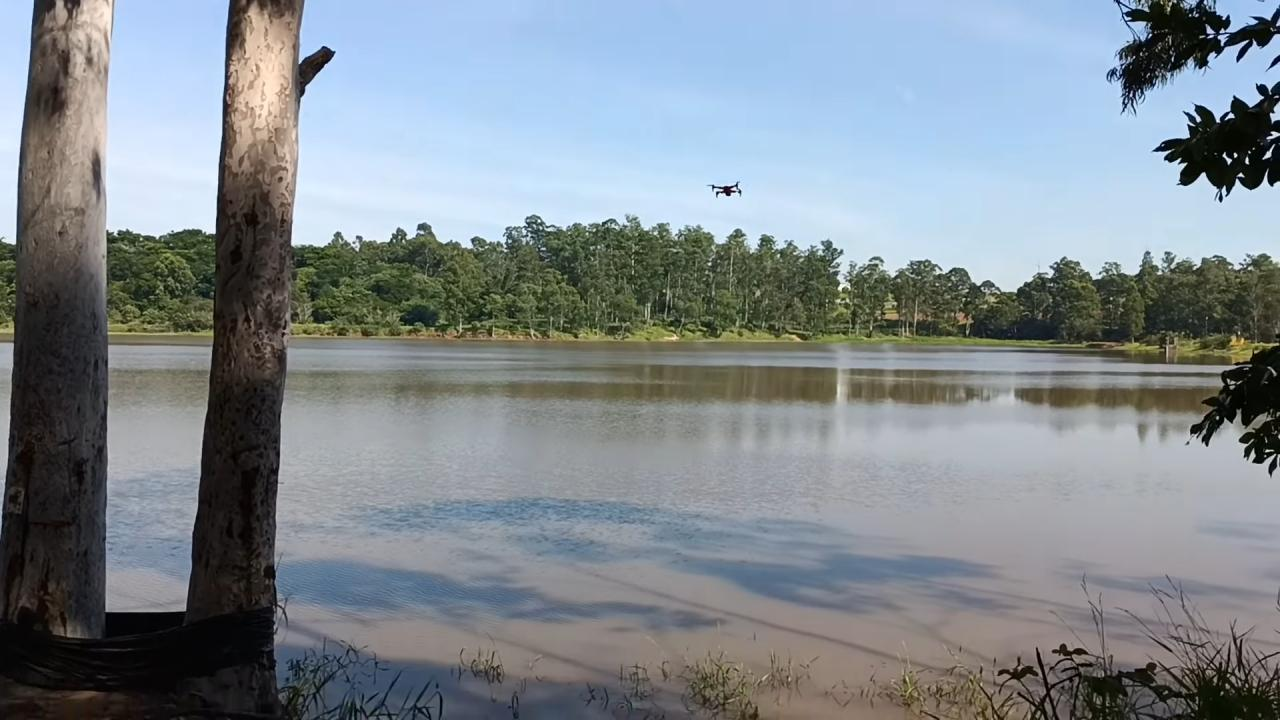Drone: (701, 174, 752, 204)
